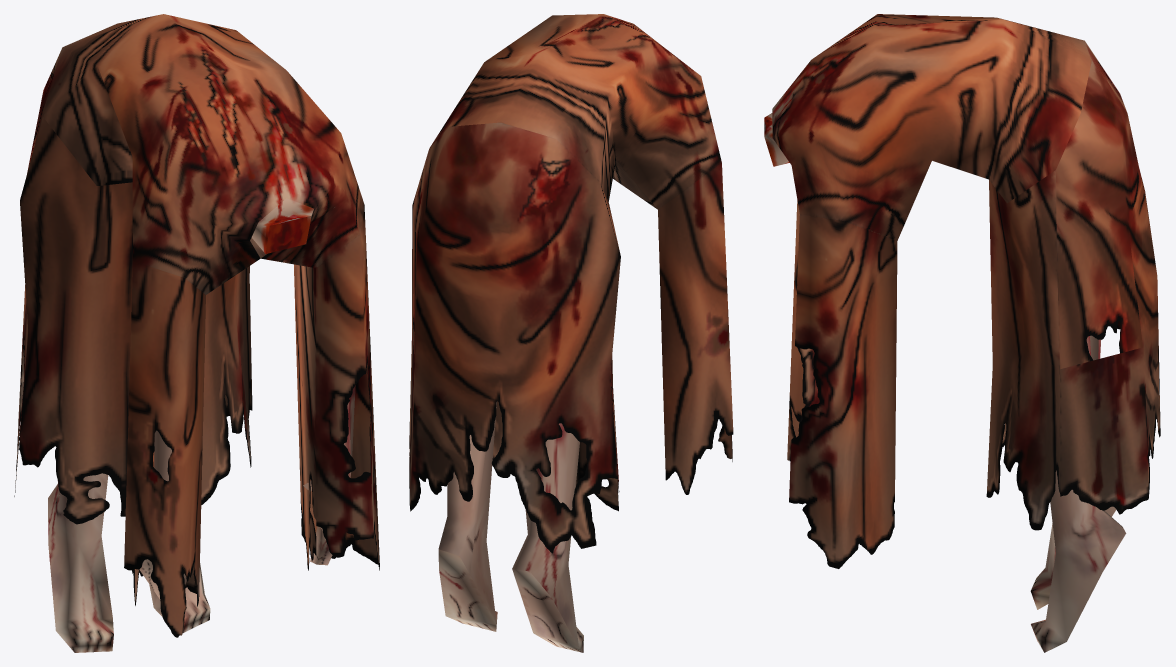
Rendered from PRP_DeadMonkC.FBX.
3 renders of one model, left to right at view 1: azimuth 30°, elevation 25°; view 2: azimuth 150°, elevation 25°; view 3: azimuth 270°, elevation 25°, orthographic. The views are drawn at different scales.
Visible parts, largest first — view 1: PRP_DeadMonkC; view 2: PRP_DeadMonkC; view 3: PRP_DeadMonkC.
Boxes of the visible parts, x1=… form: PRP_DeadMonkC: x1=14, y1=14, x2=379, y2=652; PRP_DeadMonkC: x1=409, y1=14, x2=733, y2=652; PRP_DeadMonkC: x1=764, y1=14, x2=1160, y2=652.
Bounding box in the file's own units: 53.96 × 129 × 76.42.
